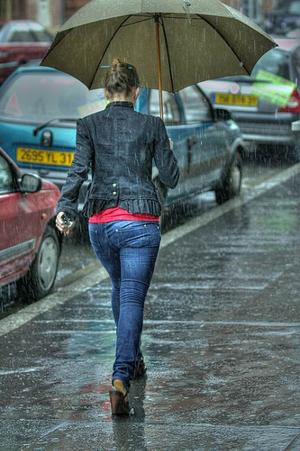person: (55, 58, 180, 397)
